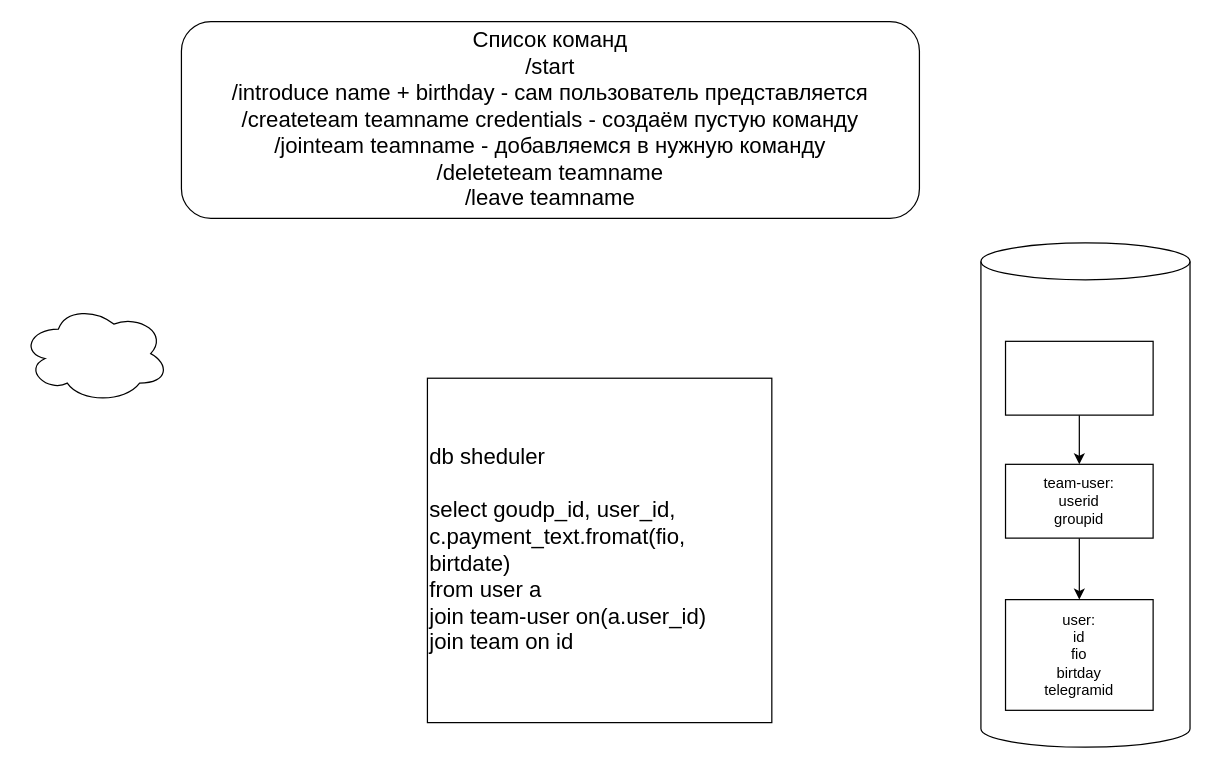
This 1212x769 diagram has some shape labels left out. The centre of each missing label's shape, as x and y in pixels:
team: id name payment_text: point 1078,377
telegram: point 94,353
